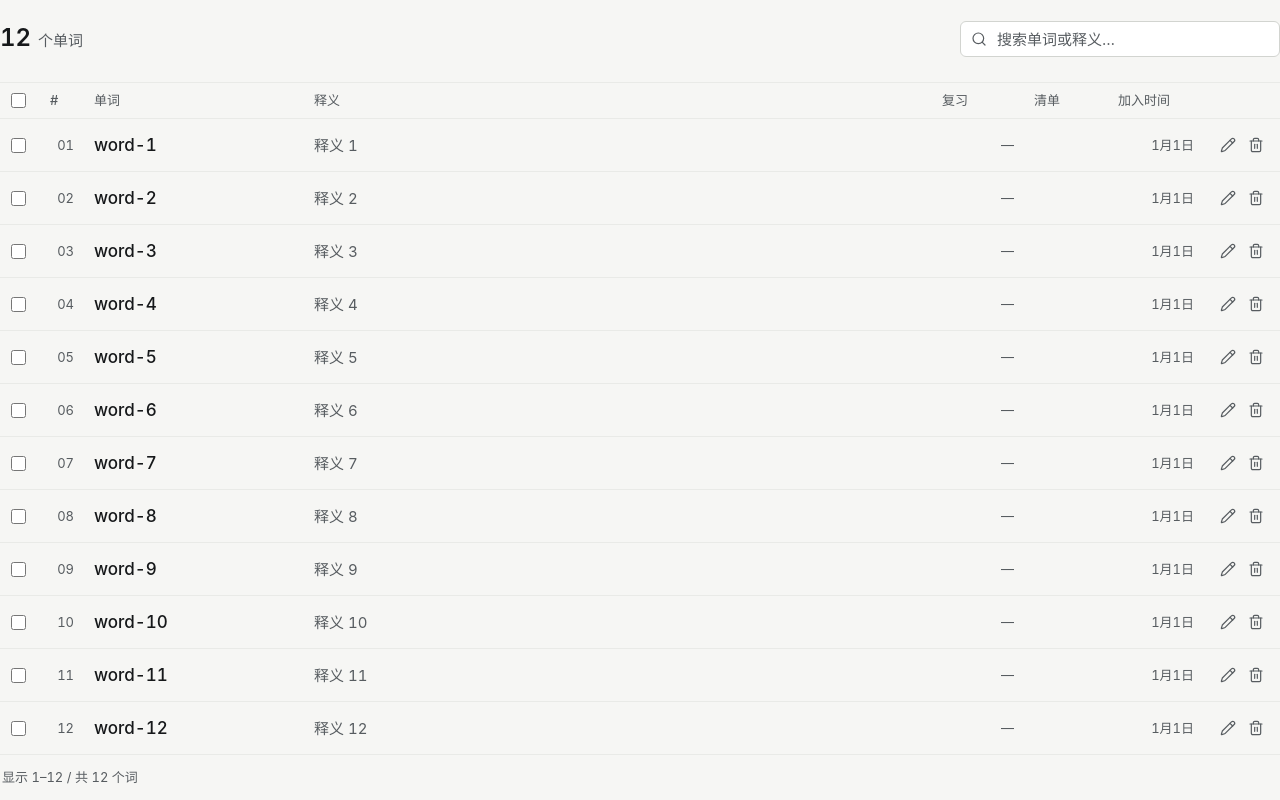
Scenario: 单词的新增与编辑对话框 › 编辑最后一行：预填内容、页面不滚回顶部，桌面指针聚焦单词
(page scrolled)
Click the button named "编辑 word-12" at (1228, 728), box [1214,713,1242,743]
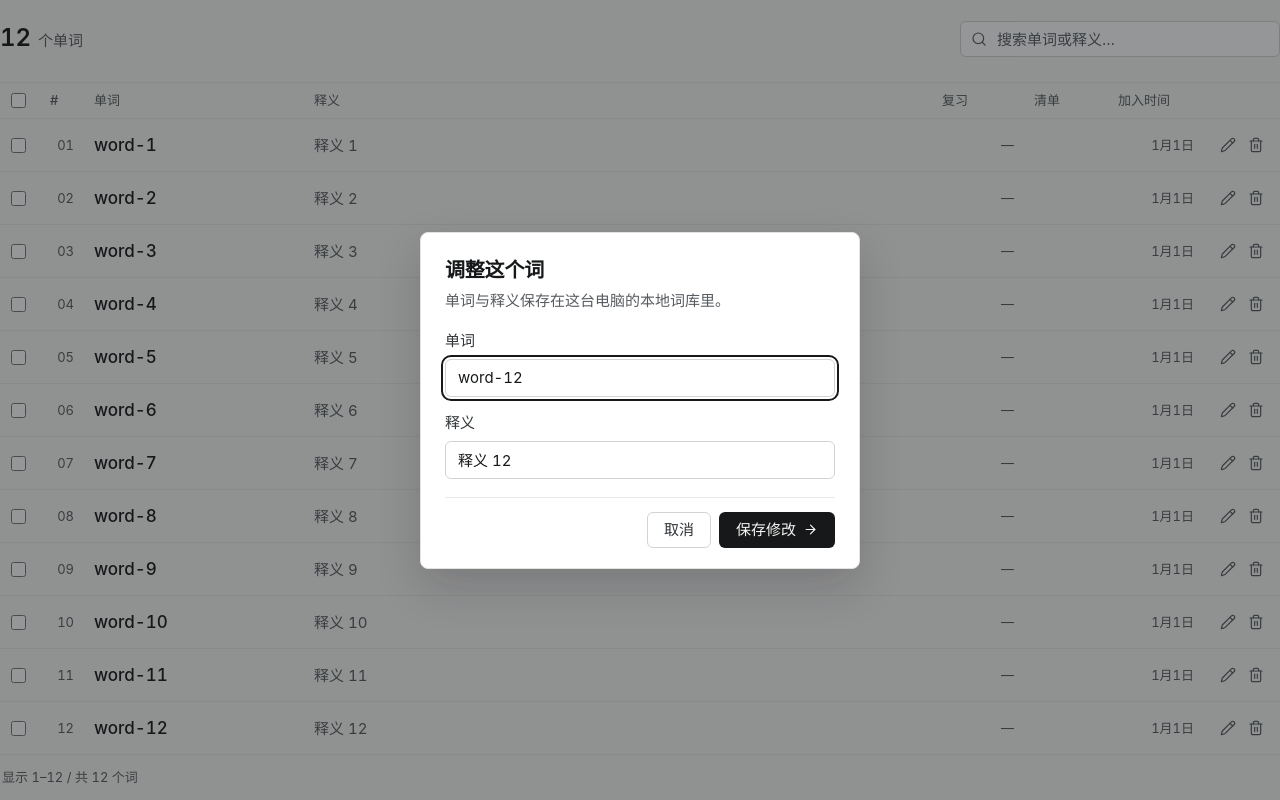
Result: the field labelled "单词" holds "word-12" at [445,358,835,396]
Result: the field labelled "释义" holds "释义 12" at [445,440,835,478]
